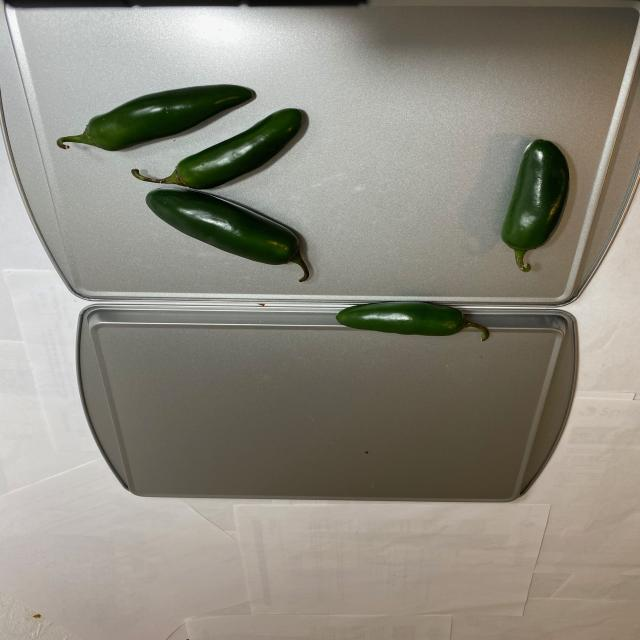chilli: (60, 83, 324, 277), (497, 130, 574, 270), (329, 291, 499, 340)
